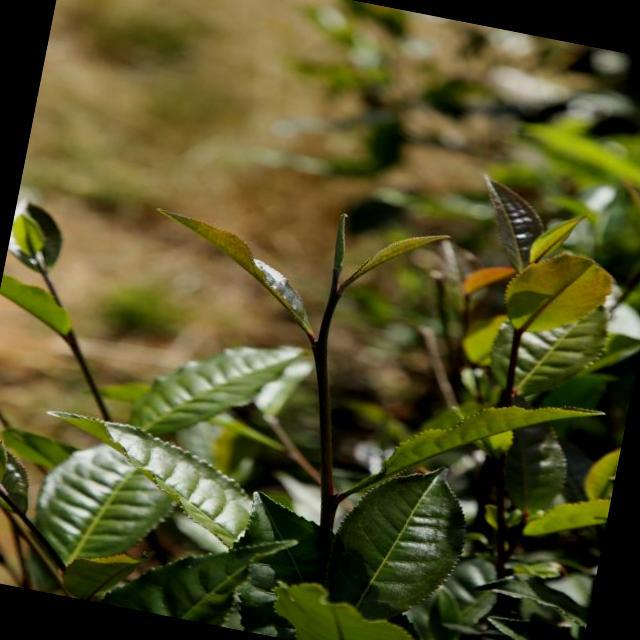Stem: (323, 303, 336, 318)
